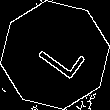L_NW: (25, 27, 85, 83)
